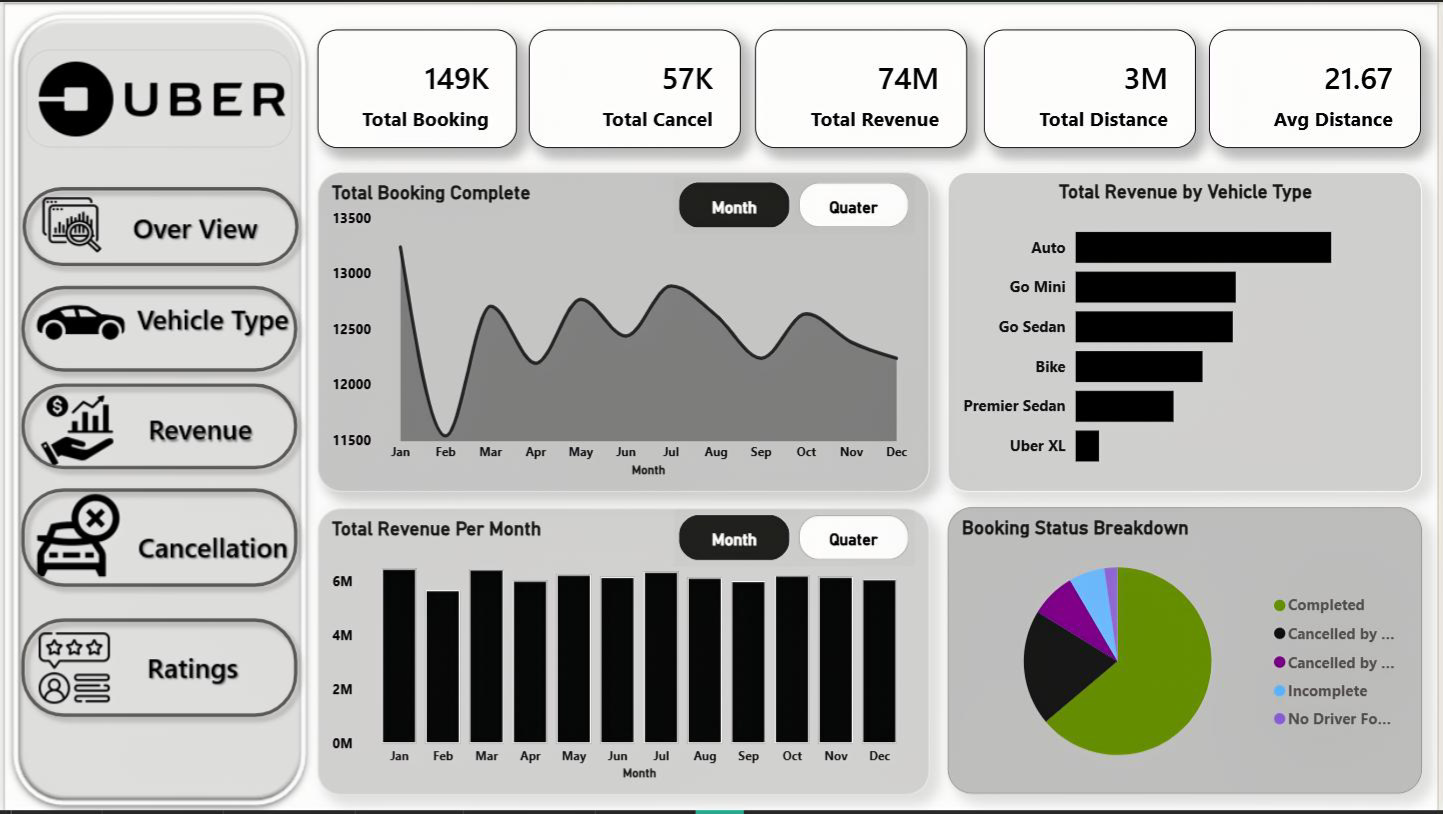

The dashboard page shown, as its layout file describes it:
{"tool":"powerbi","page":{"name":"Over View","canvas":[1280,720],"ordinal":1},"visuals":[{"type":"actionButton","box":[7.4,155.8,263.8,88.3],"z":0},{"type":"actionButton","box":[6.1,244.2,263.8,94.5],"z":1000},{"type":"actionButton","box":[6.1,330.1,263.8,94.5],"z":2000},{"type":"actionButton","box":[6.1,424.5,263.8,105.5],"z":3000},{"type":"actionButton","box":[6.1,539.9,263.8,105.5],"z":4000},{"type":"cardVisual","fields":{"Data":["_Measures.Total Booking"]},"box":[279.8,24.5,177.9,105.5],"z":5000},{"type":"cardVisual","fields":{"Data":["_Measures.Total Cancel Rides"]},"box":[467.5,24.5,189,105.5],"z":6000},{"type":"cardVisual","fields":{"Data":["_Measures.Total Revenue"]},"box":[668.7,24.5,189,105.5],"z":7000},{"type":"cardVisual","fields":{"Data":["_Measures.Total Distance"]},"box":[872.4,24.5,189,105.5],"z":8000},{"type":"cardVisual","fields":{"Data":["_Measures.Avg Distance"]},"box":[1073.6,24.5,189,105.5],"z":9000},{"type":"actionButton","box":[20,42.9,237.1,87.1],"z":10000},{"type":"clusteredBarChart","fields":{"Category":["Uber_dataset.Vehicle Type"],"Y":["_Measures.Total Revenue"]},"box":[840.5,150.9,422.1,284.7],"z":11000},{"type":"clusteredColumnChart","title":"Total Revenue Per Month","fields":{"Category":["_Date.Month","_Date.Quater"],"Y":["_Measures.Total Revenue"]},"box":[279.8,450.3,544.8,255.2],"z":12000},{"type":"areaChart","title":"Total Booking Complete","fields":{"Category":["_Date.Month","_Date.Quater"],"Y":["_Measures.Booking_Count"]},"box":[279.8,150.9,544.8,284.7],"z":13000},{"type":"advancedSlicerVisual","fields":{"Values":["Date Axiz.Date Axiz"]},"box":[596.3,451.5,214.7,50.3],"z":14000},{"type":"advancedSlicerVisual","fields":{"Values":["Date Axiz.Date Axiz"]},"box":[596.3,155.8,214.7,50.3],"z":15000},{"type":"pieChart","title":"Booking Status Breakdown","fields":{"Y":["Sum(Uber_dataset.Booking Value)"],"Category":["Uber_dataset.Booking Status"]},"box":[840,450,422,255],"z":16000}]}

Visuals, with their boxes in screenshot pixels (x1, y1, x2, y2), scaled from the page's 1280x720 canvas onto the 1443x814 screenshot:
actionButton: rect(8, 176, 306, 276)
actionButton: rect(7, 276, 304, 383)
actionButton: rect(7, 373, 304, 480)
actionButton: rect(7, 480, 304, 599)
actionButton: rect(7, 610, 304, 730)
cardVisual - _Measures.Total Booking: rect(315, 28, 516, 147)
cardVisual - _Measures.Total Cancel Rides: rect(527, 28, 740, 147)
cardVisual - _Measures.Total Revenue: rect(754, 28, 967, 147)
cardVisual - _Measures.Total Distance: rect(983, 28, 1197, 147)
cardVisual - _Measures.Avg Distance: rect(1210, 28, 1423, 147)
actionButton: rect(23, 49, 290, 147)
clusteredBarChart - Uber_dataset.Vehicle Type x _Measures.Total Revenue: rect(948, 171, 1423, 492)
"Total Revenue Per Month" clusteredColumnChart: rect(315, 509, 930, 798)
"Total Booking Complete" areaChart: rect(315, 171, 930, 492)
advancedSlicerVisual - Date Axiz.Date Axiz: rect(672, 510, 914, 567)
advancedSlicerVisual - Date Axiz.Date Axiz: rect(672, 176, 914, 233)
"Booking Status Breakdown" pieChart: rect(947, 509, 1423, 797)
